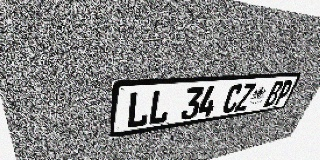3: (180, 87, 205, 120)
4: (196, 85, 221, 118)
B: (263, 81, 285, 107)
C: (221, 84, 244, 114)
L: (126, 90, 152, 129), (147, 89, 173, 126)
P: (273, 80, 294, 106)
Z: (234, 83, 257, 112)
